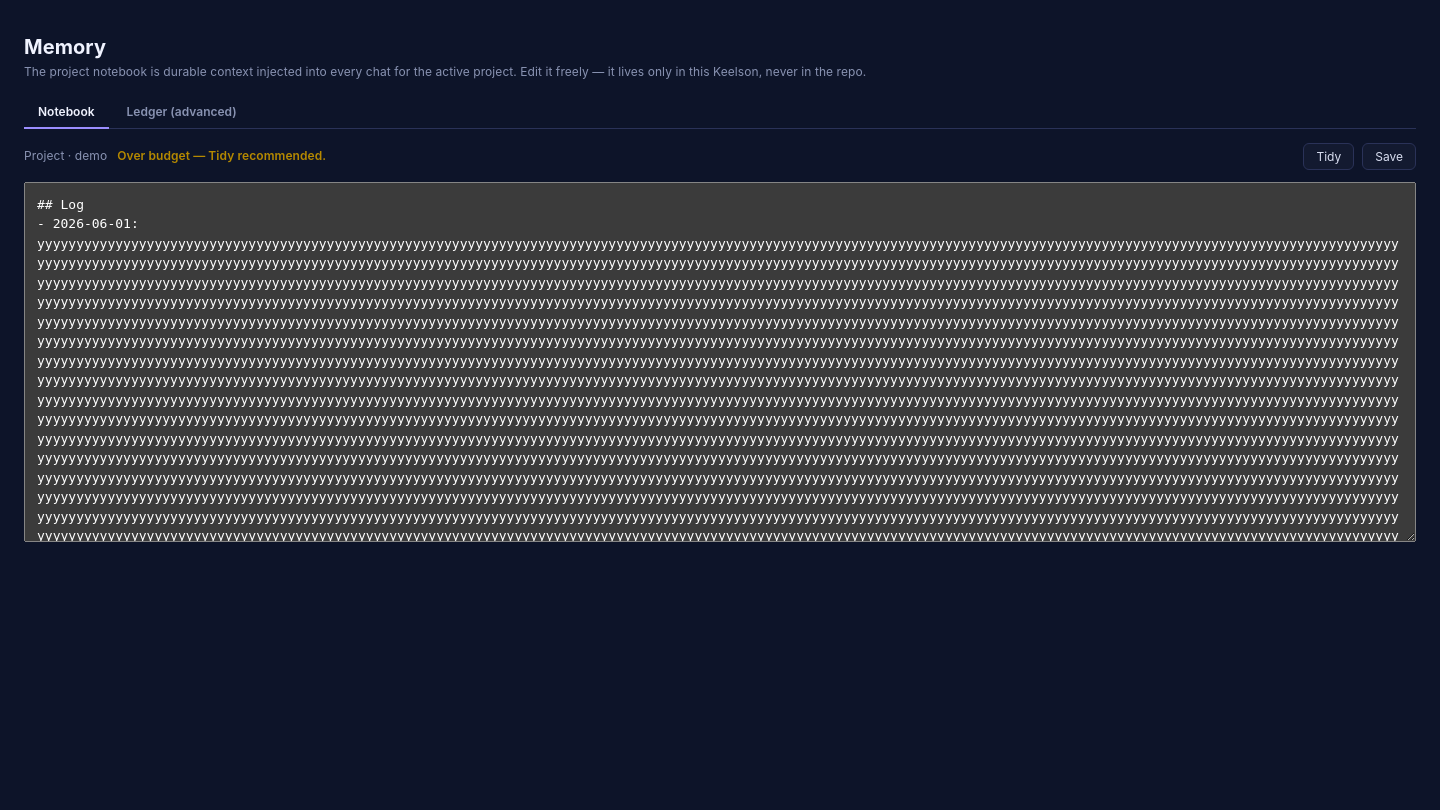
Test: Memory notebook panel › Tidy that can't archive anything but stays over budget warns instead of claiming success
The width and height of the screenshot is (1440, 810).
expect the text box named "Project notebook" is shown: met, box [24,182,1416,542]
Click the button "Tidy" at (1329, 156), box [1303,143,1354,170]
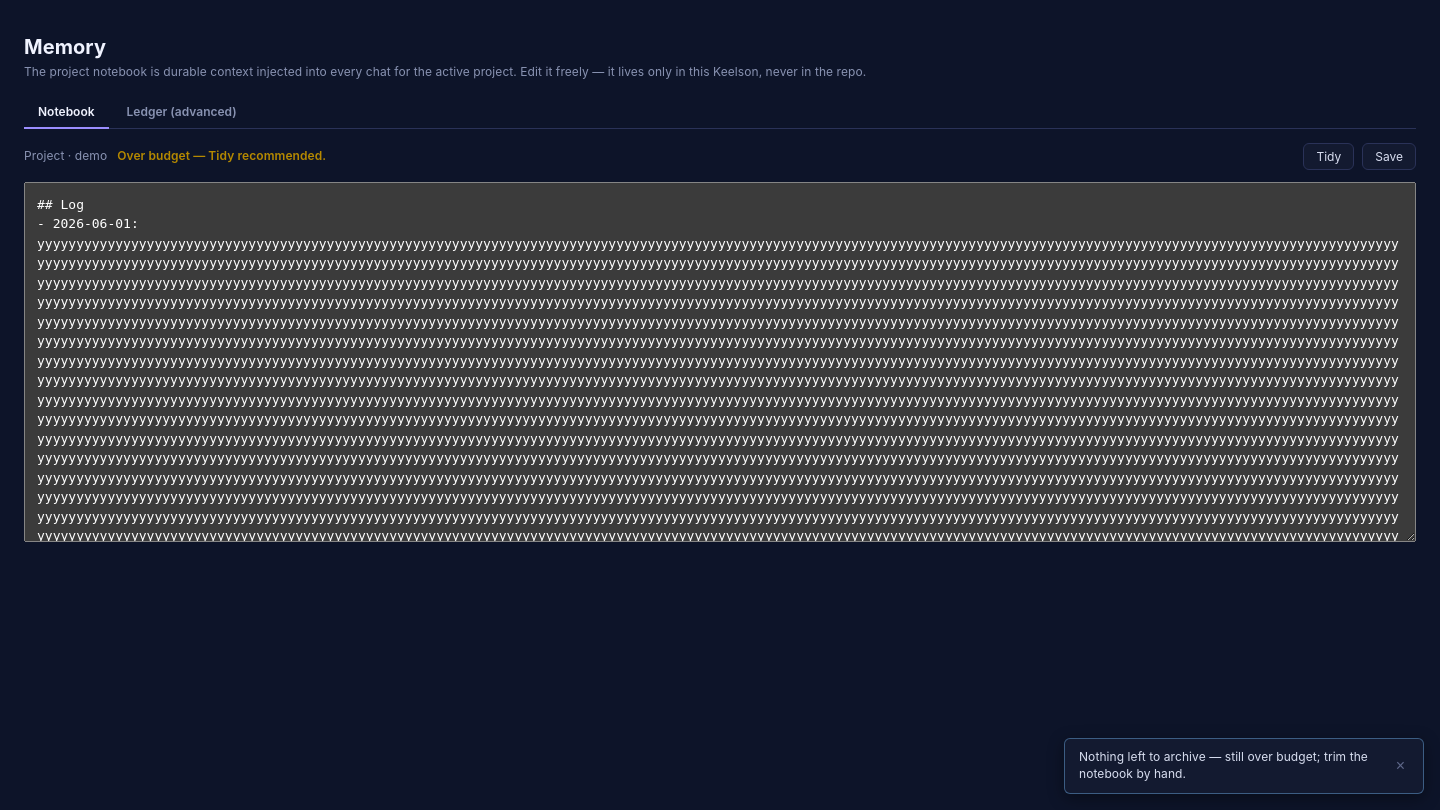
expect the text "still over budget" is shown: met, box [1079,749,1368,781]
